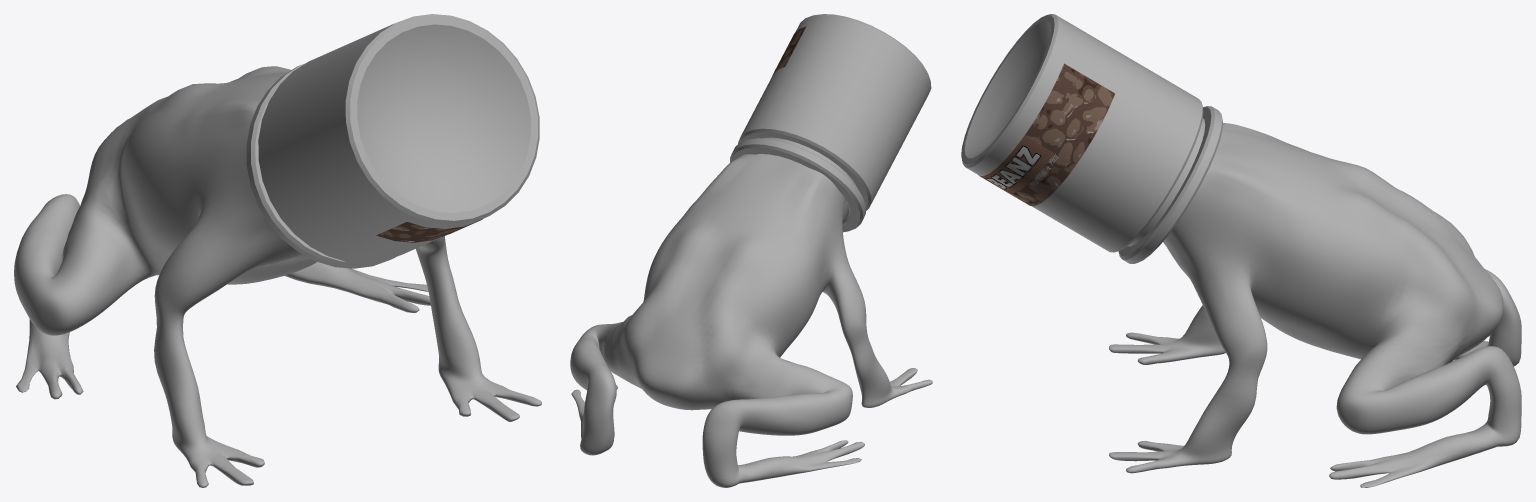
Rendered from frog.fbx.
3 views of the same model, side by side, from view 1: azimuth 30°, elevation 25°; view 2: azimuth 150°, elevation 25°; view 3: azimuth 270°, elevation 25° (orthographic). The views are drawn at different scales.
Visible parts, largest first — view 1: frog, jar, jar_label1; view 2: frog, jar; view 3: frog, jar, jar_label1.
Part boxes in pixels (x1,y1,x2,y2): frog: [14, 66, 541, 487]; jar: [246, 14, 539, 268]; jar_label1: [376, 219, 482, 242]; frog: [570, 154, 932, 487]; jar: [730, 14, 931, 232]; frog: [1109, 123, 1521, 487]; jar: [961, 14, 1222, 263]; jar_label1: [978, 63, 1115, 206].
Bounding box in the file's own units: 0.0766 × 0.0814 × 0.1076.
